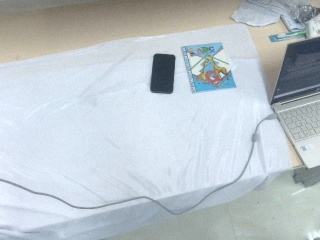book: (181, 42, 237, 94)
phone: (150, 54, 176, 94)
